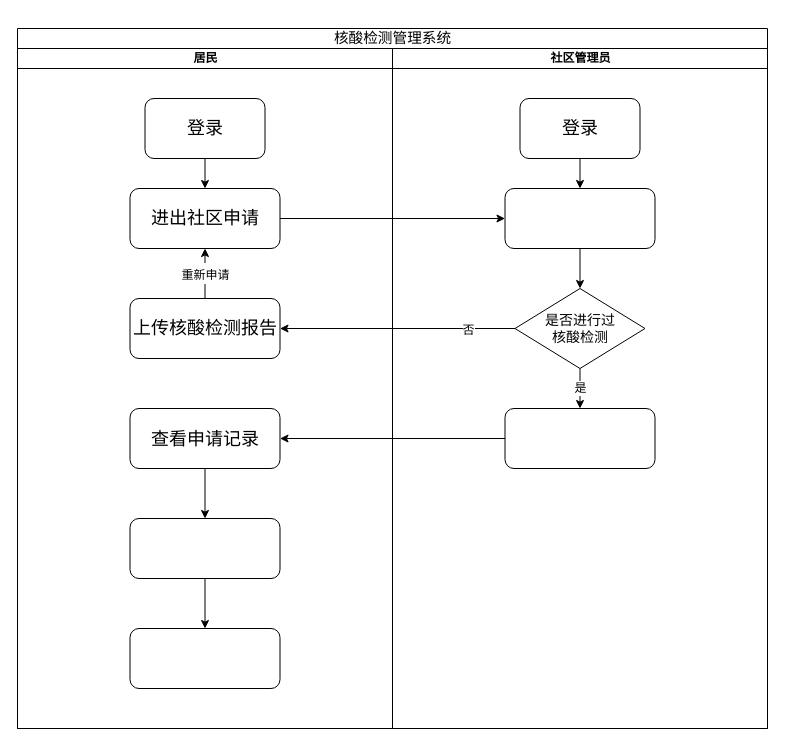
This 785x746 diagram has some shape labels left out. The shapes that lost their labels are listed below. From the top down, each one's centre as x and y in pixels, then its label:
(x=579, y=218): 查看出入申请 并审核
(x=579, y=438): 审批通过
(x=204, y=548): 出示记录
(x=204, y=658): 顺利进出社区
